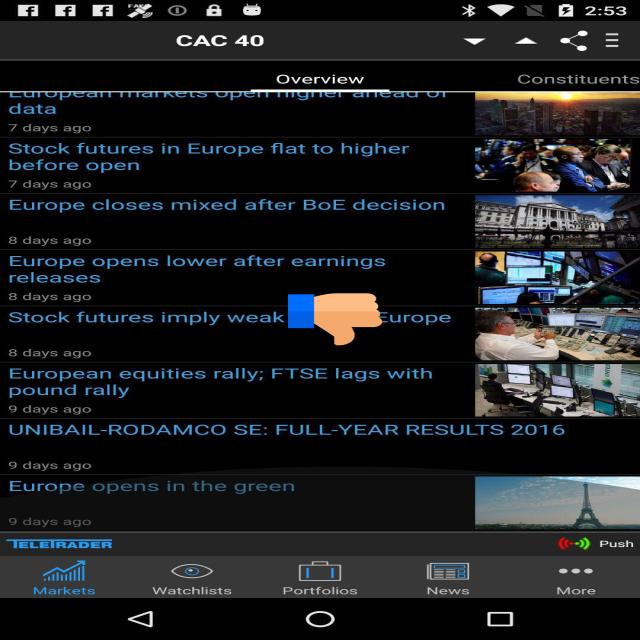obstruction: (288, 292, 382, 347)
